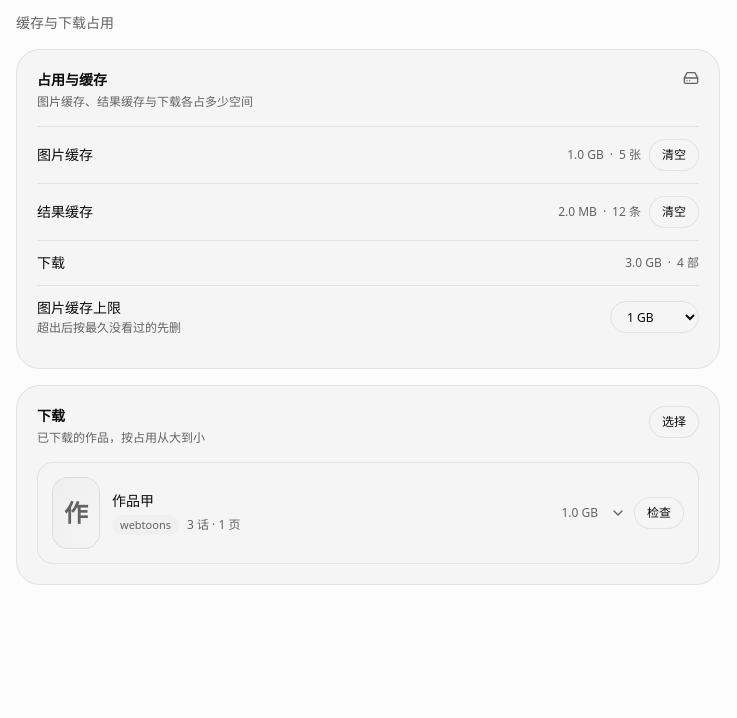
Test: 存储页的完整性检查 › 页号很多时只列前几个并补等 N 页
Expected: the text "作品甲" is shown, [112, 491, 154, 510]
What coordinates should you click on to do the following:
click the button "作 作品甲 webtoons 3 话 · 1 页 1.0 GB"
I would click on:
 (76, 513)
Its box is [52, 477, 626, 549].
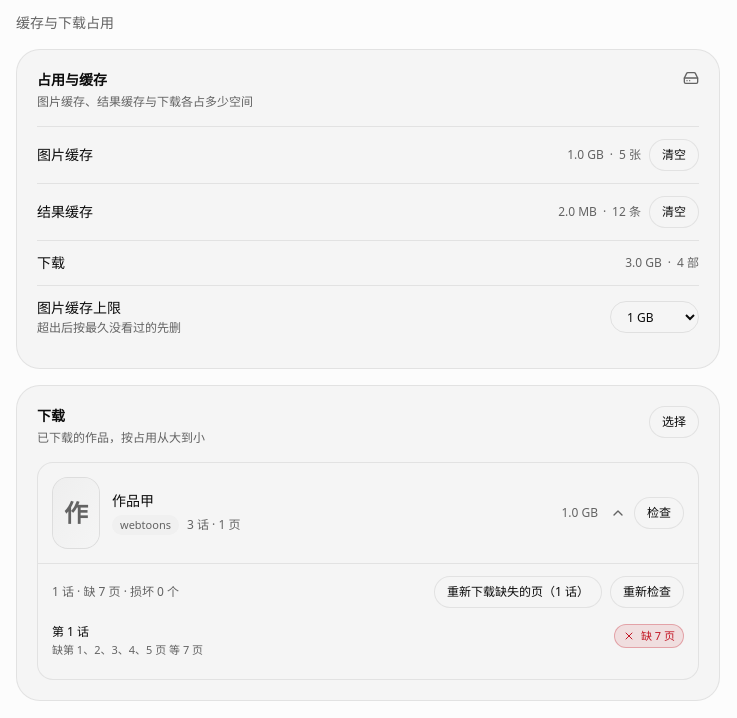
Expected: the text "缺第 1、2、3、4、5 页 等 7 页" is shown, [52, 642, 203, 658]
